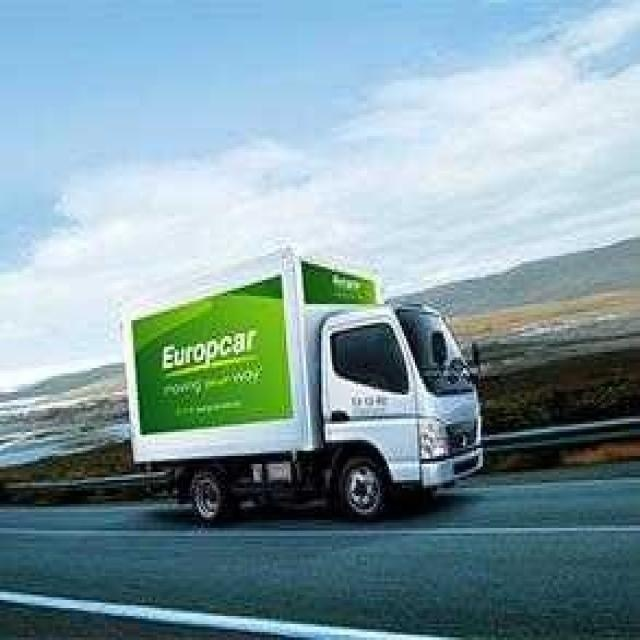Truck: (114, 229, 490, 525)
